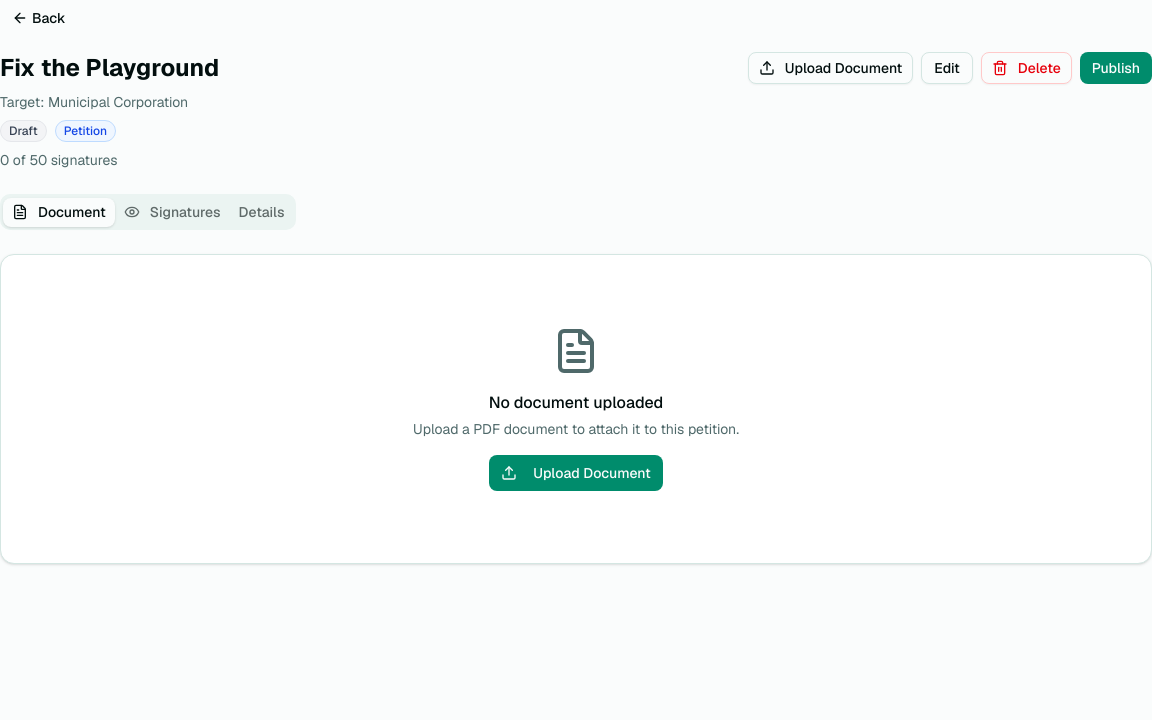
Test: PetitionDetailPage › closes Upload dialog when Cancel is clicked
Expected: the heading "Fix the Playground" is shown, [0,52,219,84]
Click the button "Upload Document" in the row of "Fix the Playground": (831, 68) [748,52,913,84]
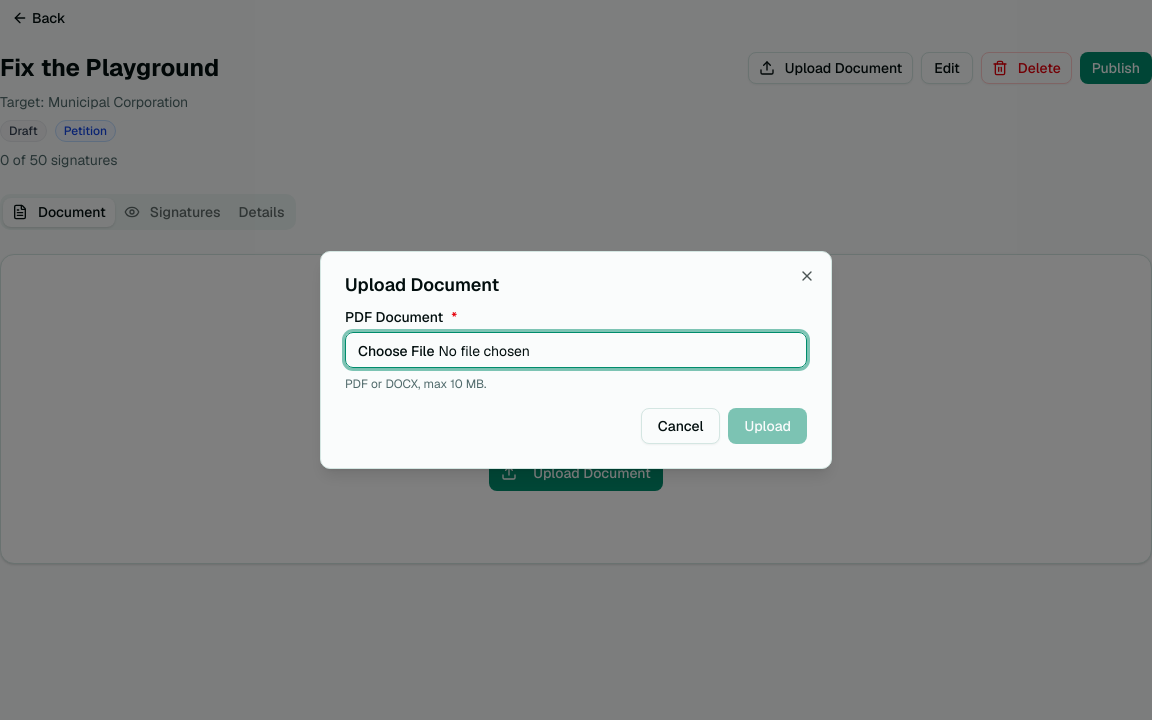
Expected: the dialog is shown, [320,251,832,469]
Click the button "Cancel": (681, 426) [641,408,720,444]
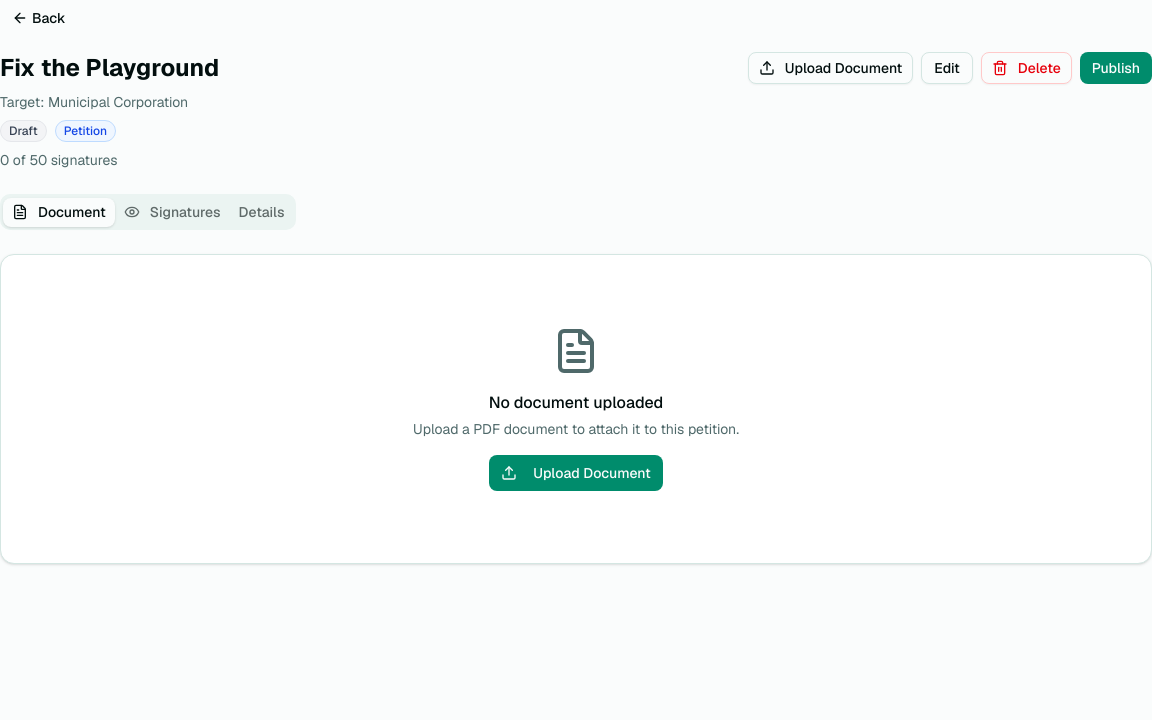
Expected: the dialog is gone
